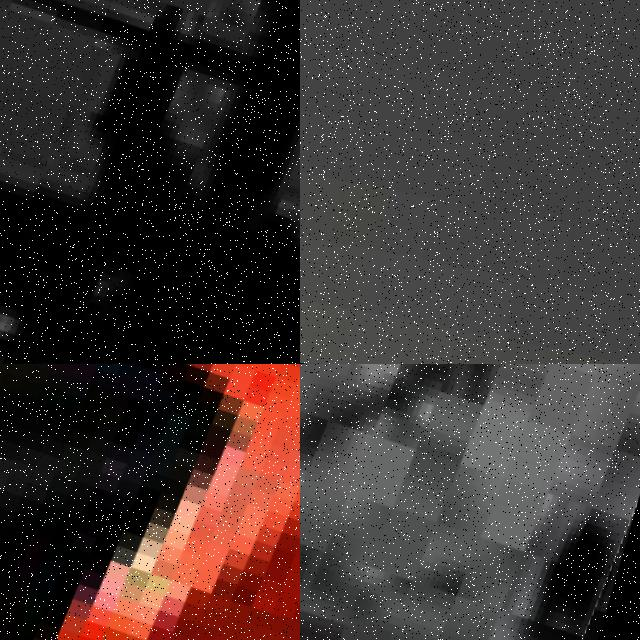drone: (0, 0, 300, 364), (300, 364, 640, 640), (0, 364, 300, 640)
